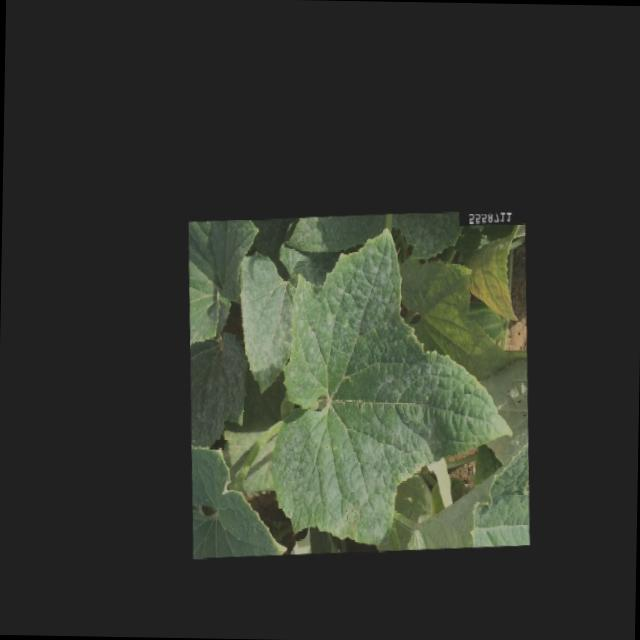Powdery_Mildew: (264, 218, 520, 548)
